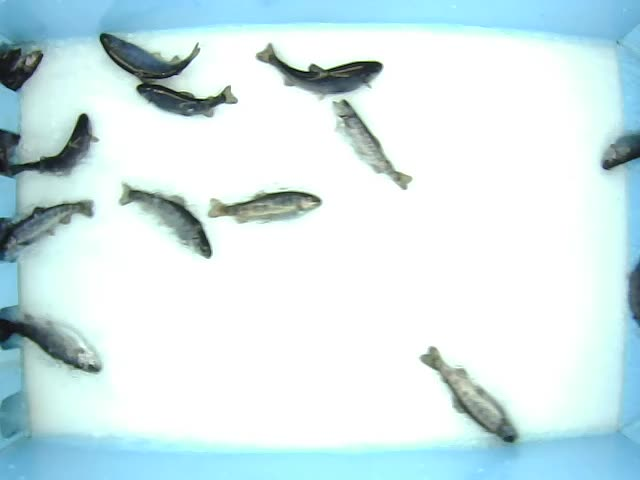fish: (418, 343, 522, 445), (117, 179, 215, 261), (253, 41, 385, 101), (332, 99, 414, 191), (1, 308, 106, 377), (2, 113, 100, 178), (1, 199, 96, 258), (98, 31, 203, 84), (206, 189, 324, 224), (135, 83, 238, 118)
